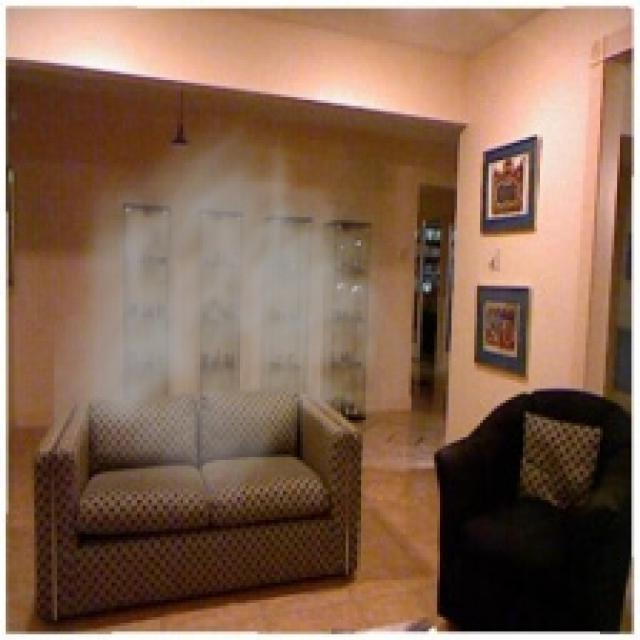Smoke: (54, 106, 426, 520)
